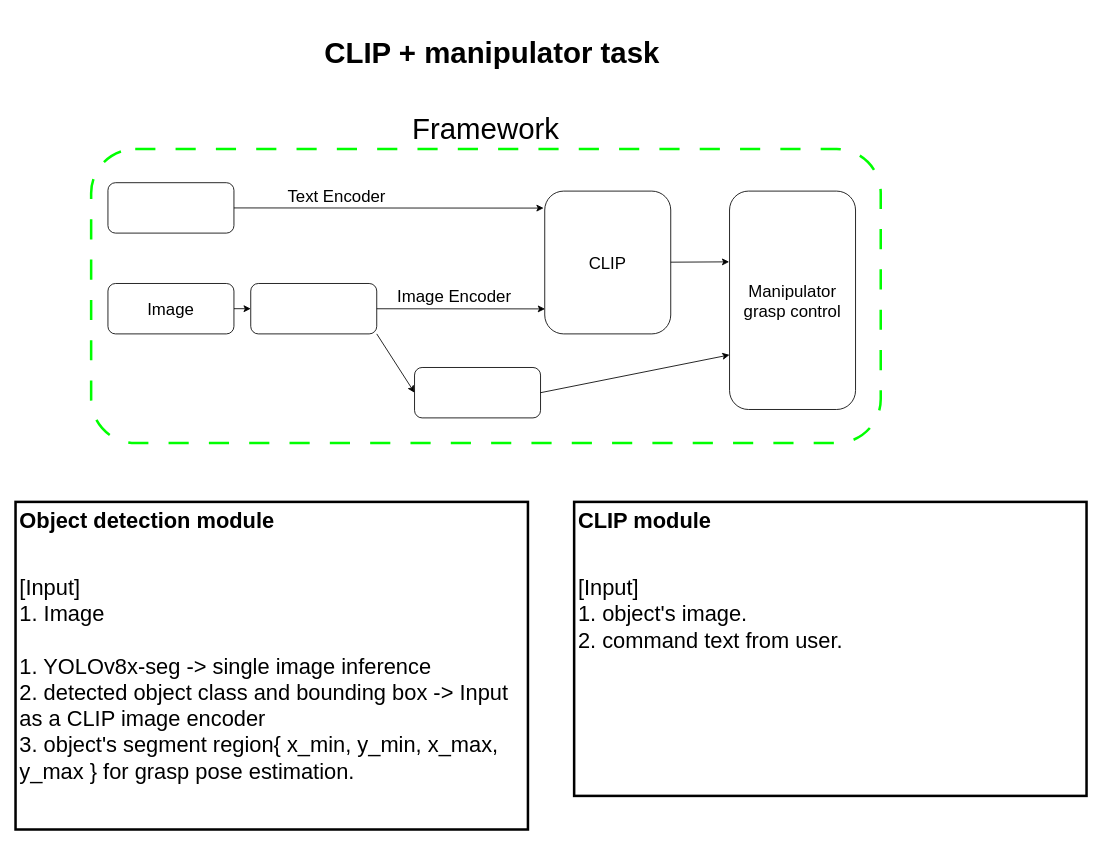
Image size: 1102x845. Some labels were removed from this diagram. Here are the shapes that lost their labels. From the top down, the centre of each, then its label:
At (x=170, y=207): "Text".
At (x=313, y=308): "Semantic segmentation".
At (x=477, y=392): "grasp pose estimation".
